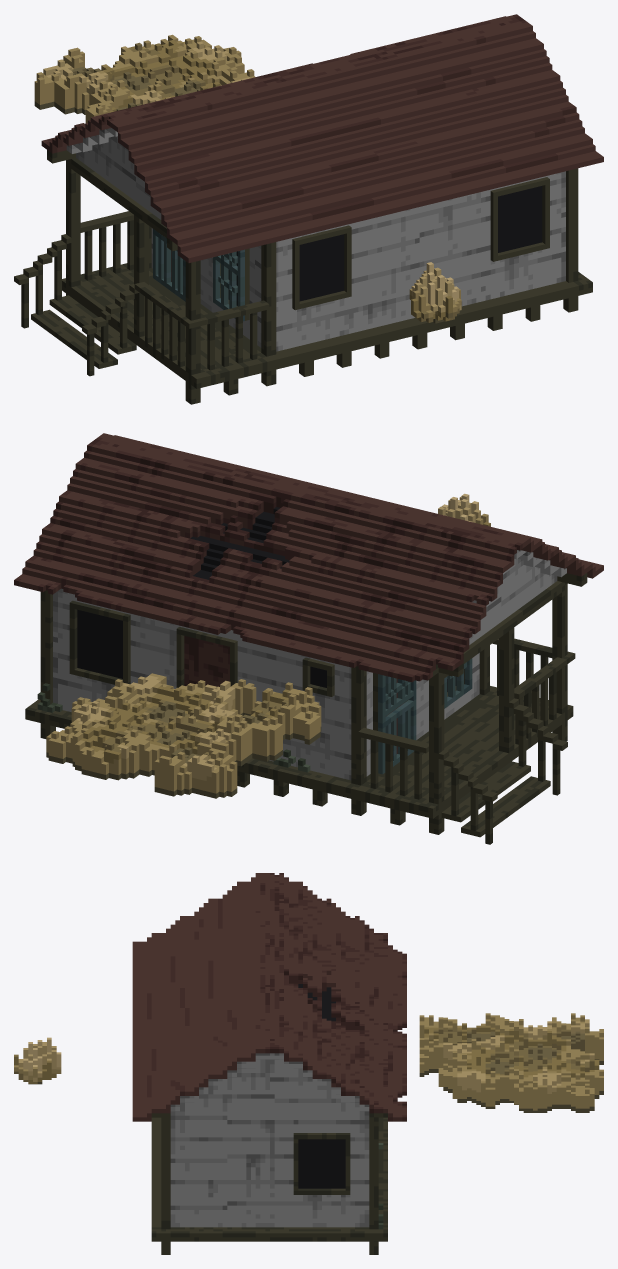
The model's file is house.glb.
The picture shows the model from 3 angles, top to bottom: view 1: azimuth 30°, elevation 25°; view 2: azimuth 150°, elevation 25°; view 3: azimuth 270°, elevation 25°; orthographic projection. The views are drawn at different scales.
Visible parts, largest first — view 1: House, Vegetation1, Vegetation2; view 2: House, Vegetation1, Vegetation2; view 3: House, Vegetation1, Vegetation2.
Part boxes in pixels (box(x1,y1,x2,y2)): House: box(14, 14, 603, 404); Vegetation1: box(34, 34, 255, 122); Vegetation2: box(409, 262, 461, 323); House: box(14, 433, 603, 844); Vegetation1: box(46, 673, 321, 798); Vegetation2: box(438, 493, 490, 526); House: box(132, 873, 406, 1254); Vegetation1: box(419, 1013, 603, 1112); Vegetation2: box(14, 1037, 61, 1084).
Bounding box in the file's own units: 9.5 × 4.9 × 12.48.
Materials: 3 (3 with a texture image).
